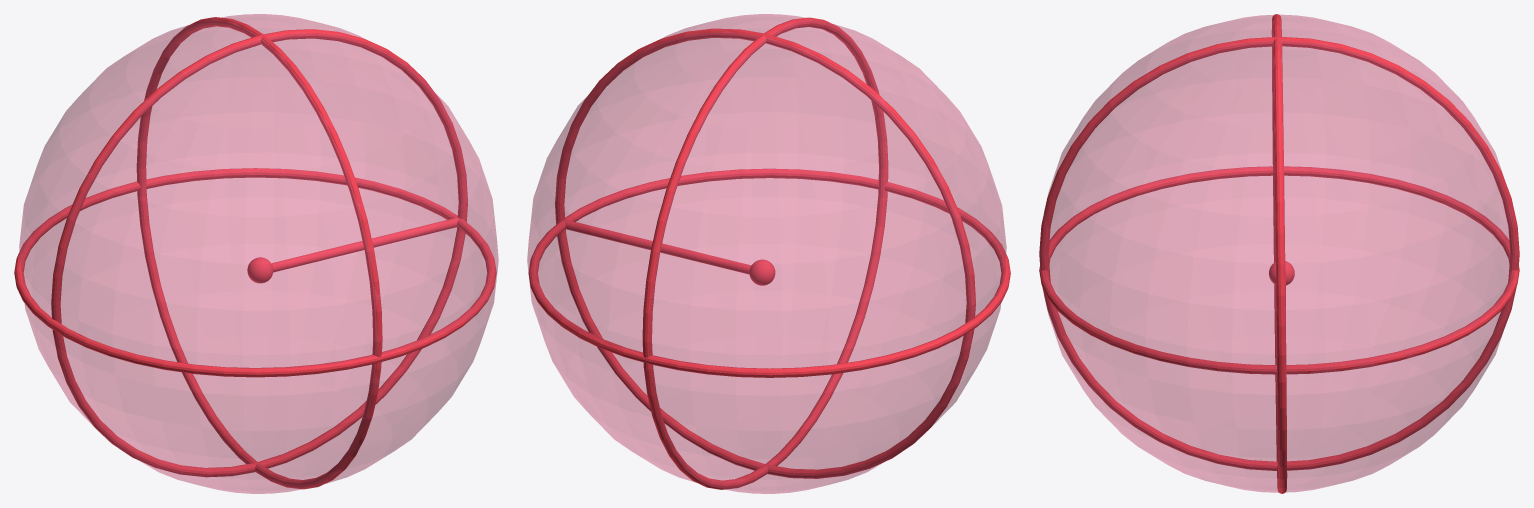
Rendered from geobola.fbx.
3 renders of one model, left to right at view 1: azimuth 30°, elevation 25°; view 2: azimuth 150°, elevation 25°; view 3: azimuth 270°, elevation 25°, orthographic.
Parts seen in each view (by area): view 1: Sphere, Torus.003, Torus.002, Torus.001, Cylinder, Sphere.001; view 2: Sphere, Torus.003, Torus.002, Torus.001, Cylinder, Sphere.001; view 3: Sphere, Torus.002, Torus.001, Torus.003.
Part boxes in pixels (x1,y1,x2,y2): Sphere: (19, 14, 498, 493); Torus.003: (51, 29, 467, 477); Torus.002: (136, 17, 382, 489); Torus.001: (14, 168, 496, 377); Cylinder: (271, 217, 459, 272); Sphere.001: (247, 257, 273, 283); Sphere: (527, 14, 1006, 493); Torus.003: (555, 28, 975, 478); Torus.002: (642, 17, 888, 489); Torus.001: (528, 168, 1010, 377); Cylinder: (563, 219, 751, 274); Sphere.001: (749, 259, 775, 285); Sphere: (1040, 14, 1517, 492); Torus.002: (1039, 36, 1519, 470); Torus.001: (1039, 166, 1519, 374); Torus.003: (1271, 14, 1287, 493).
Bounding box in the file's own units: 324 × 321 × 321.
